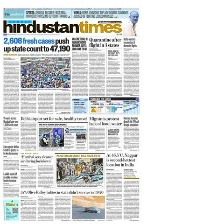news_paper: (0, 5, 140, 221)
